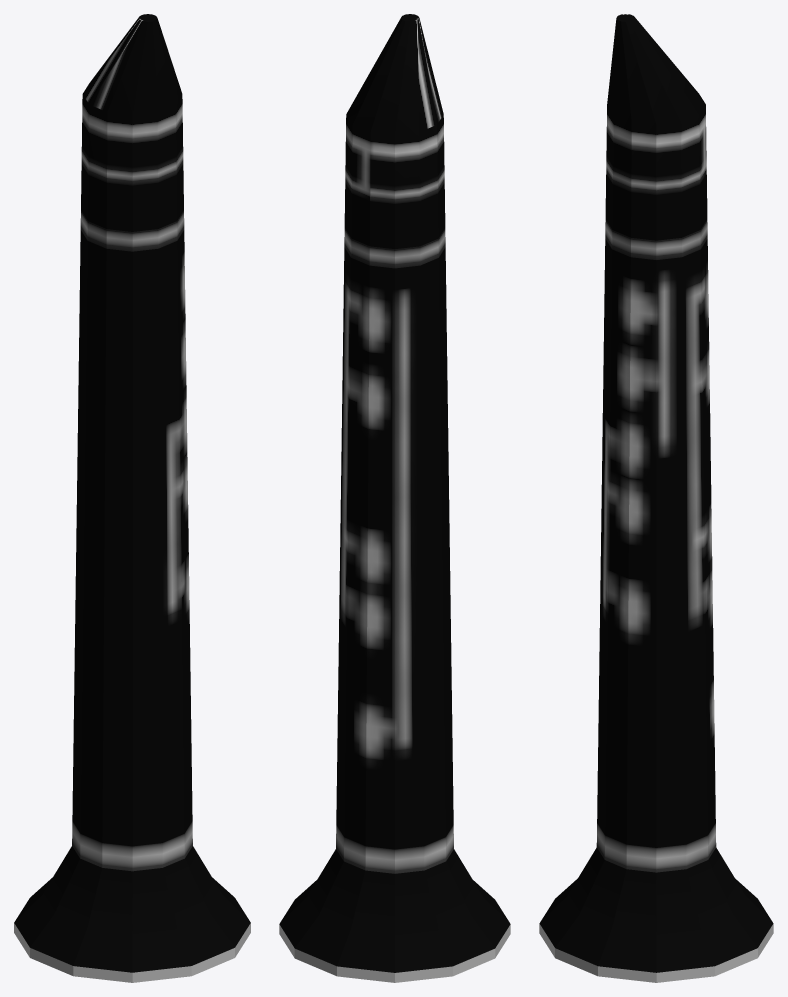
File: clarinet.fbx
3 views of the same model, side by side, from view 1: azimuth 30°, elevation 25°; view 2: azimuth 150°, elevation 25°; view 3: azimuth 270°, elevation 25° (orthographic). The views are drawn at different scales.
Parts seen in each view (by area): view 1: pCylinder1; view 2: pCylinder1; view 3: pCylinder1.
Boxes of the visible parts, x1,y1,x2,y2 form: pCylinder1: [14, 14, 250, 982]; pCylinder1: [279, 14, 510, 982]; pCylinder1: [539, 14, 773, 982].
Size of the model in its own units: 1.04 by 4.5 by 1.04.
Materials: 1 (1 with a texture image).
